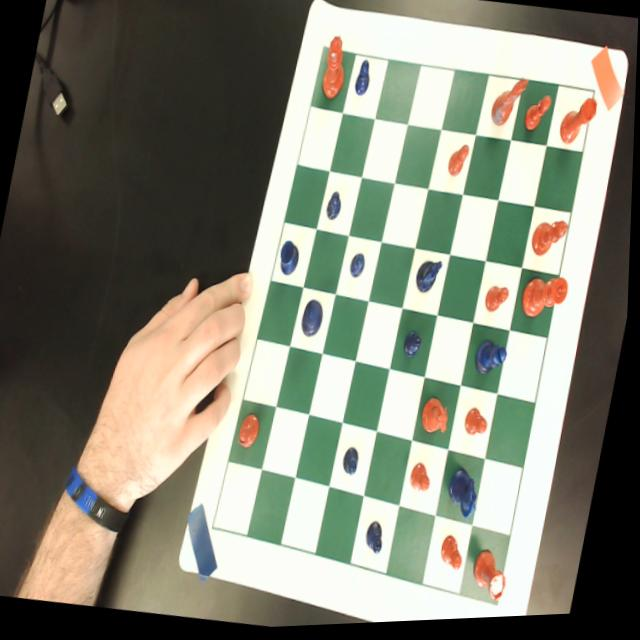B: (475, 342, 513, 386)
K: (301, 299, 328, 343)
N: (447, 469, 488, 526), (415, 260, 446, 302)
P: (367, 522, 391, 560), (354, 61, 375, 102), (326, 192, 346, 225), (405, 333, 427, 363), (344, 449, 365, 480), (350, 255, 369, 282)
R: (277, 241, 305, 283)
b: (532, 220, 573, 267), (236, 413, 268, 457)
k: (521, 278, 572, 330)
n: (490, 80, 531, 135), (422, 399, 455, 445)
p: (523, 97, 556, 140), (442, 536, 472, 576), (466, 409, 495, 443), (447, 145, 472, 184), (484, 286, 513, 319), (412, 465, 437, 499)
q: (320, 37, 352, 105)
r: (472, 549, 517, 610), (558, 98, 601, 154)
